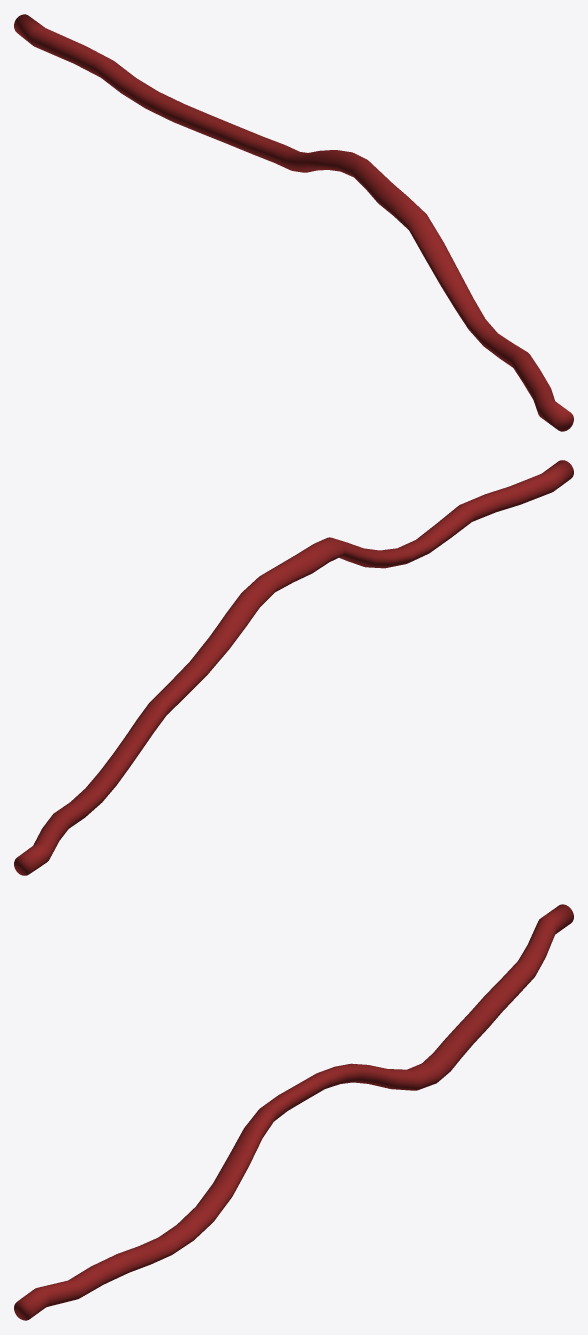
File: Fiber3.fbx
3 views of the same model, one above another, from view 1: azimuth 30°, elevation 25°; view 2: azimuth 150°, elevation 25°; view 3: azimuth 330°, elevation 25° (orthographic).
Visible parts, largest first — view 1: NerveFiber3; view 2: NerveFiber3; view 3: NerveFiber3.
Part boxes in pixels (x1,y1,x2,y2): NerveFiber3: (14,14,573,431); NerveFiber3: (14,460,573,875); NerveFiber3: (14,904,573,1320).
Bounding box in the file's own units: 1721 × 1747 × 19999.
